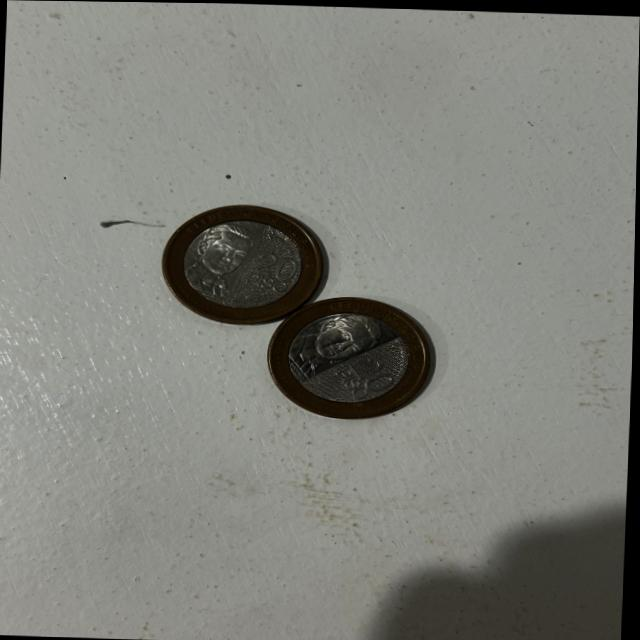20_New_Front: (333, 351, 400, 403), (249, 247, 298, 294)
